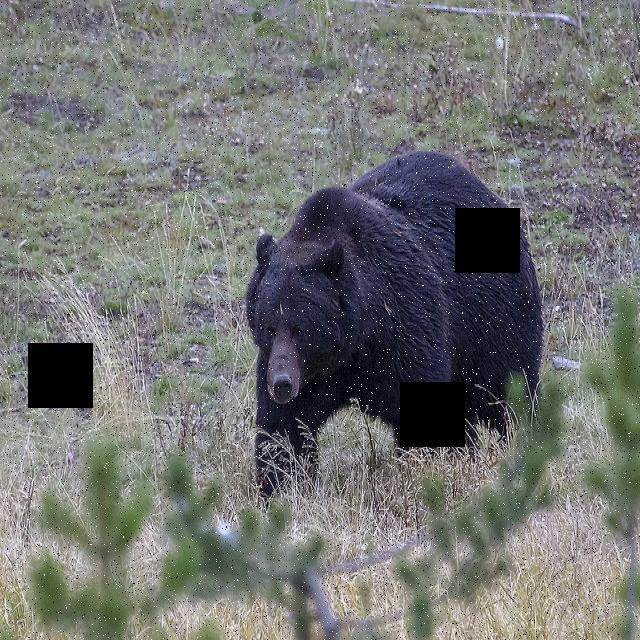Bear: (237, 140, 555, 496)
